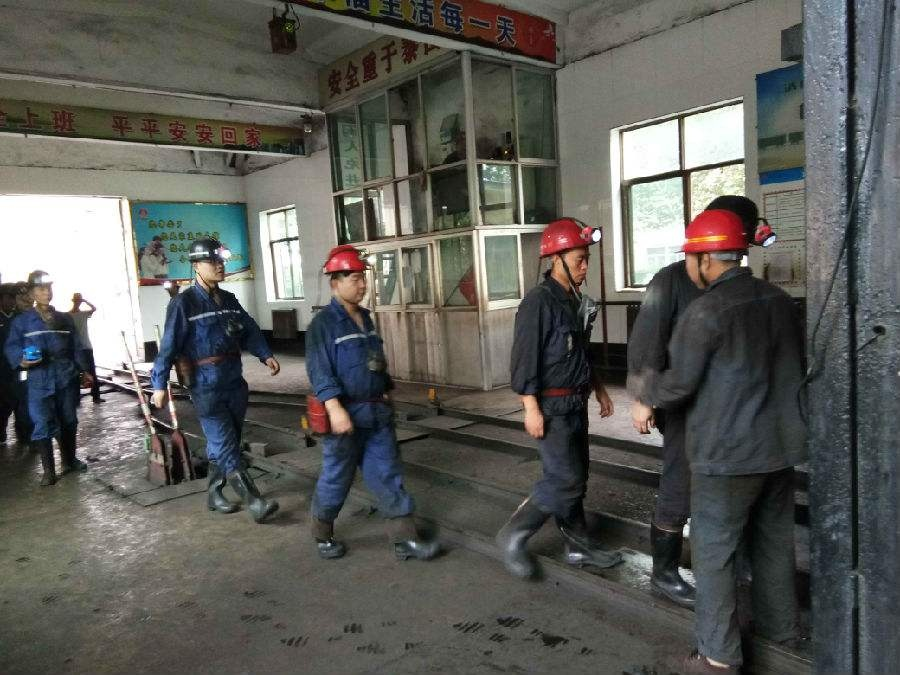blue: (183, 233, 233, 293)
red: (675, 206, 748, 293), (533, 211, 601, 291), (322, 238, 372, 308), (25, 265, 56, 311)
